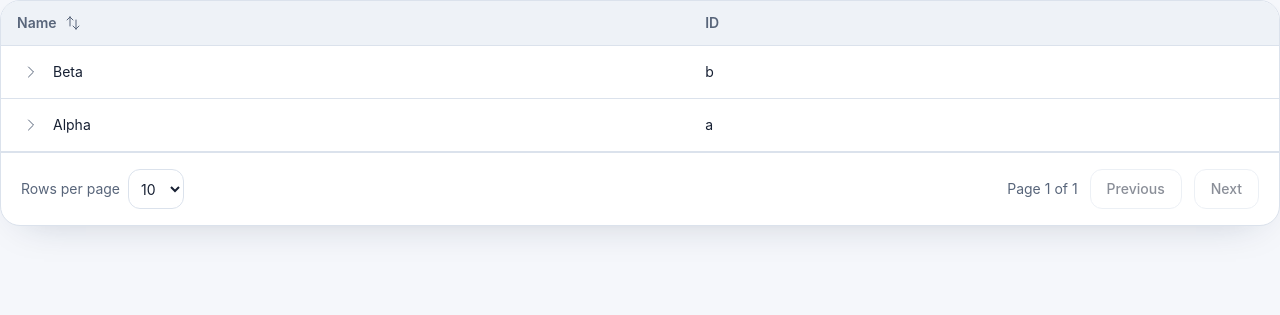
Test case: DataTable expansion › rejects older success after a newer cache-disabled request
Click the button named "Expand row" next to "Beta" at (31,72), box [17, 58, 45, 86]
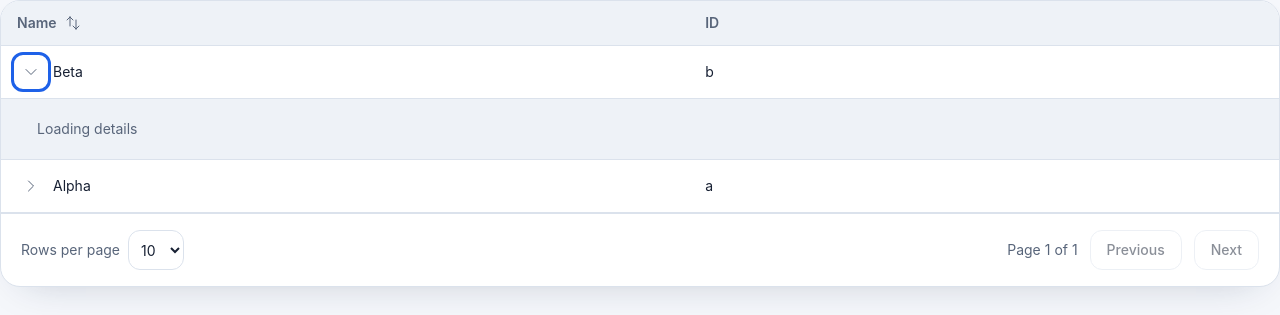
Click the button named "Collapse row" at (31,72), box [17, 58, 45, 86]
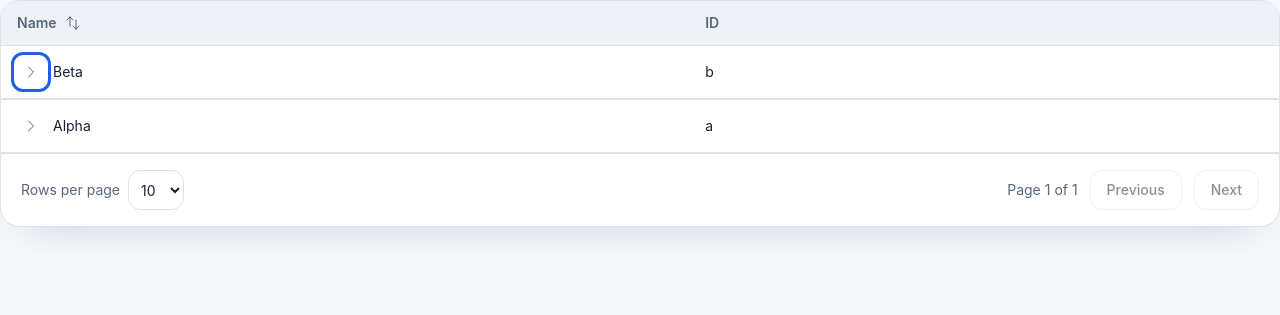
Click the button named "Expand row" next to "Beta" at (31,72), box [17, 58, 45, 86]
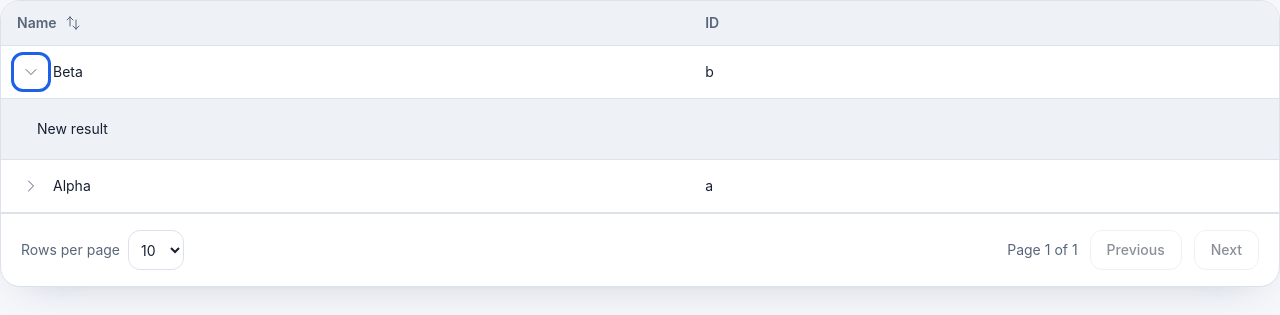
Now the text "New result" is shown, box [37, 120, 108, 137]
